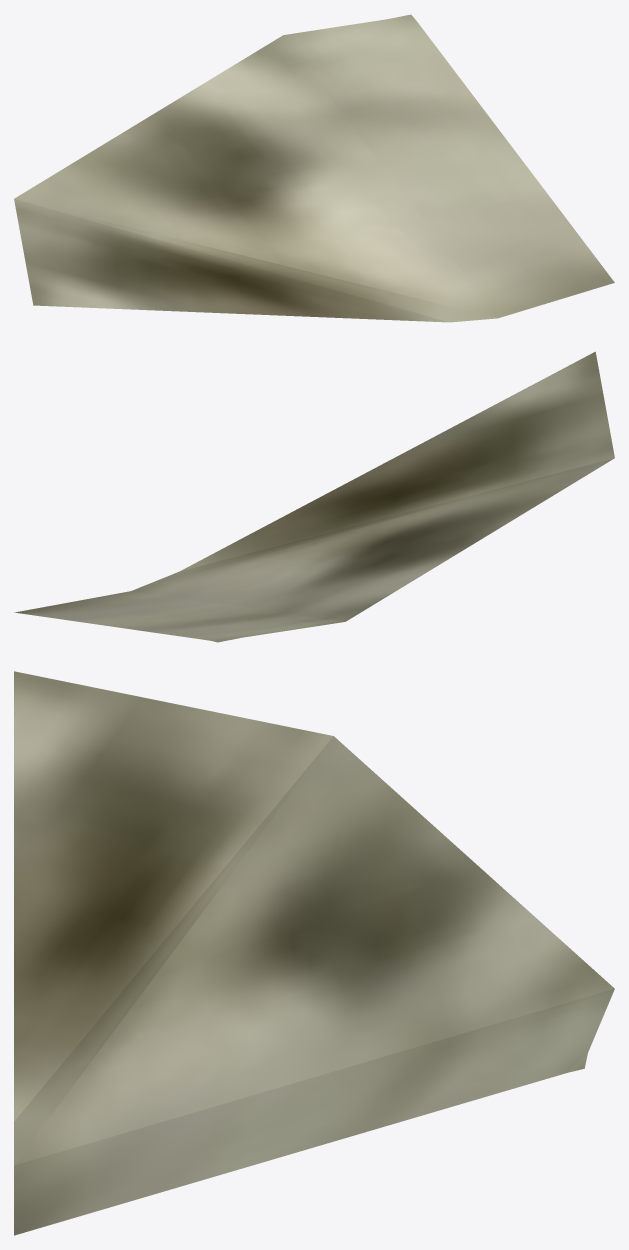
3 renders of one model, top to bottom at view 1: azimuth 30°, elevation 25°; view 2: azimuth 210°, elevation 25°; view 3: azimuth 270°, elevation 25°, orthographic. The views are drawn at different scales.
Size of the model in its own units: 0.4429 by 0.0919 by 0.283.
Materials: 1 (1 with a texture image).
